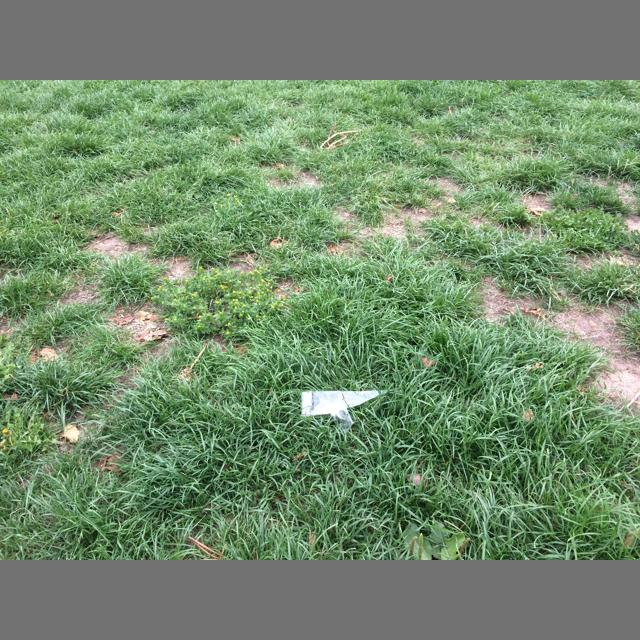litter: (302, 390, 387, 434)
